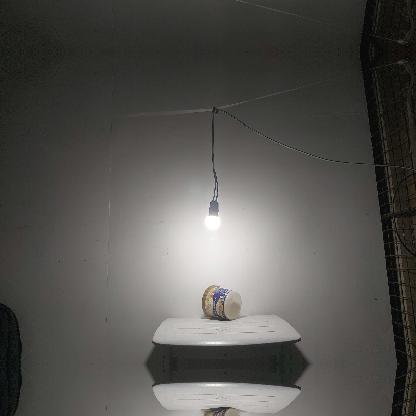Lady-s-Choice: (201, 284, 241, 320), (201, 408, 242, 415)
